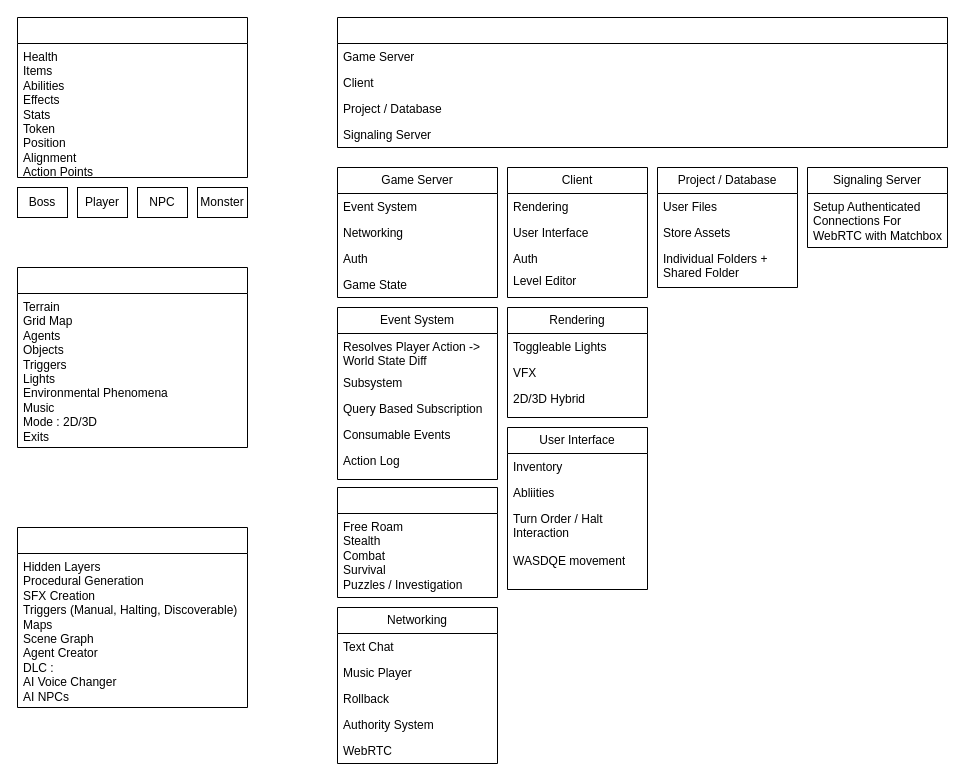
Image size: 965x784. Some labels were removed from this diagram. Each missing label, with the box of its shape:
Agents: (16, 16, 248, 178)
GM Tools: (16, 526, 248, 708)
Scene: (16, 266, 248, 448)
Subsystems: (336, 486, 498, 598)
System: (336, 16, 948, 148)
